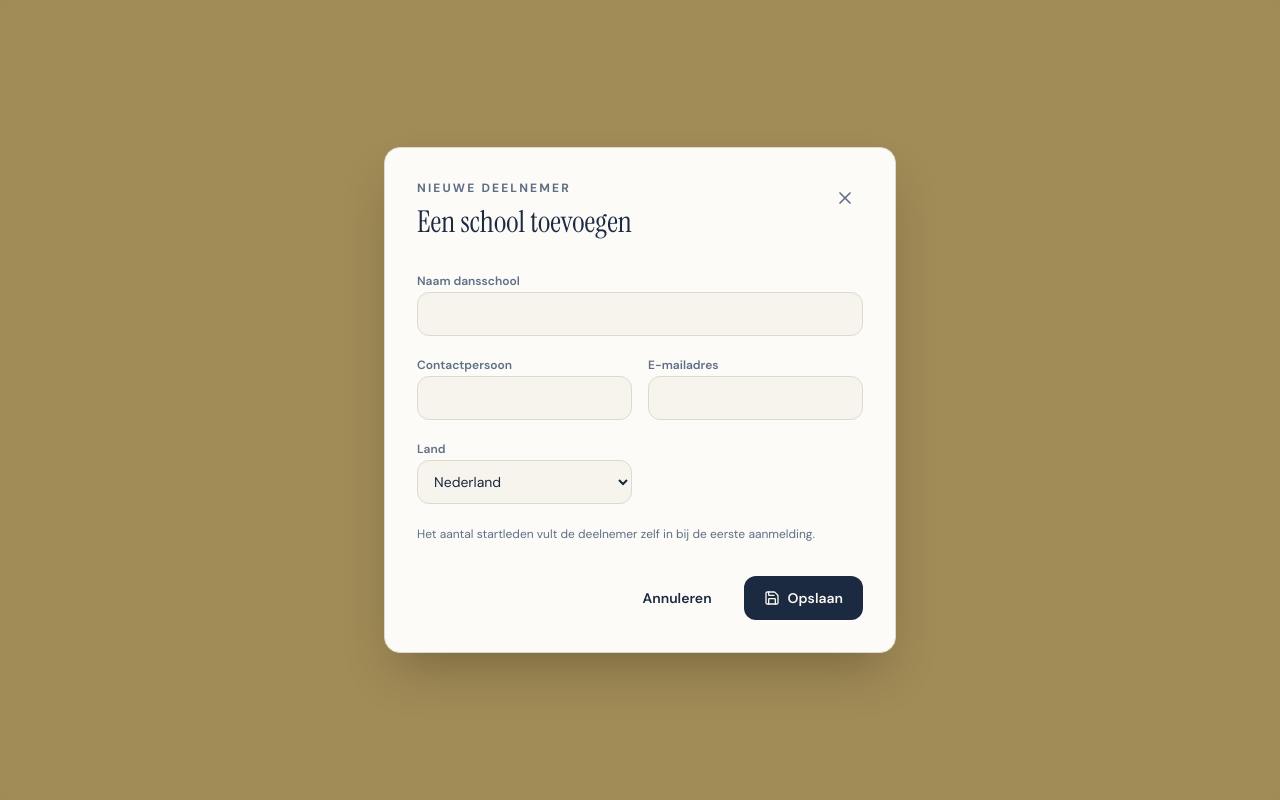
it: dubbele e-mailadressen in deelnemersbeheer › laat bij toevoegen de conflictmelding en alle ingevoerde waarden staan
Type "Nieuwe dansschool" into the field with test id "input-participant-school-name" at point(640, 314), box [417,292,863,336]
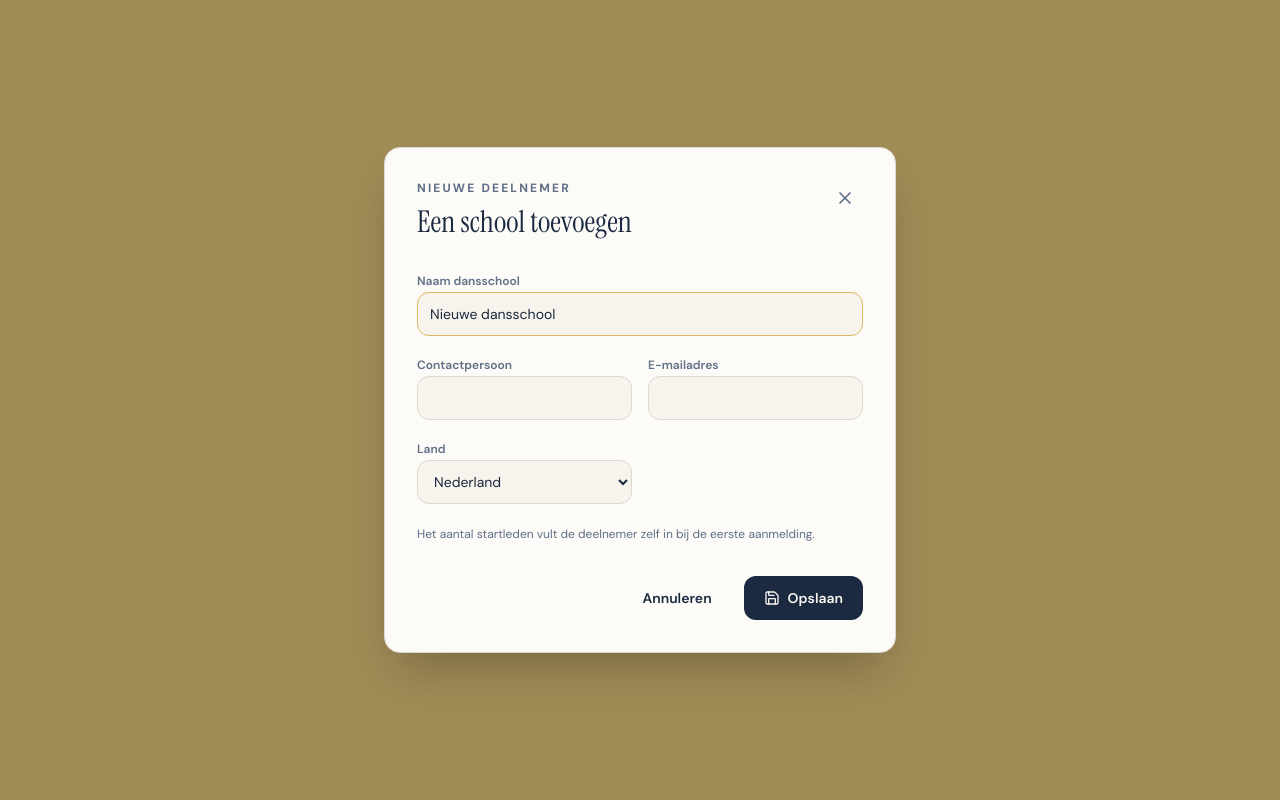
Type "Nieuwe beheerder" into the field with test id "input-participant-contact-name" at point(524, 398), box [417,376,632,420]
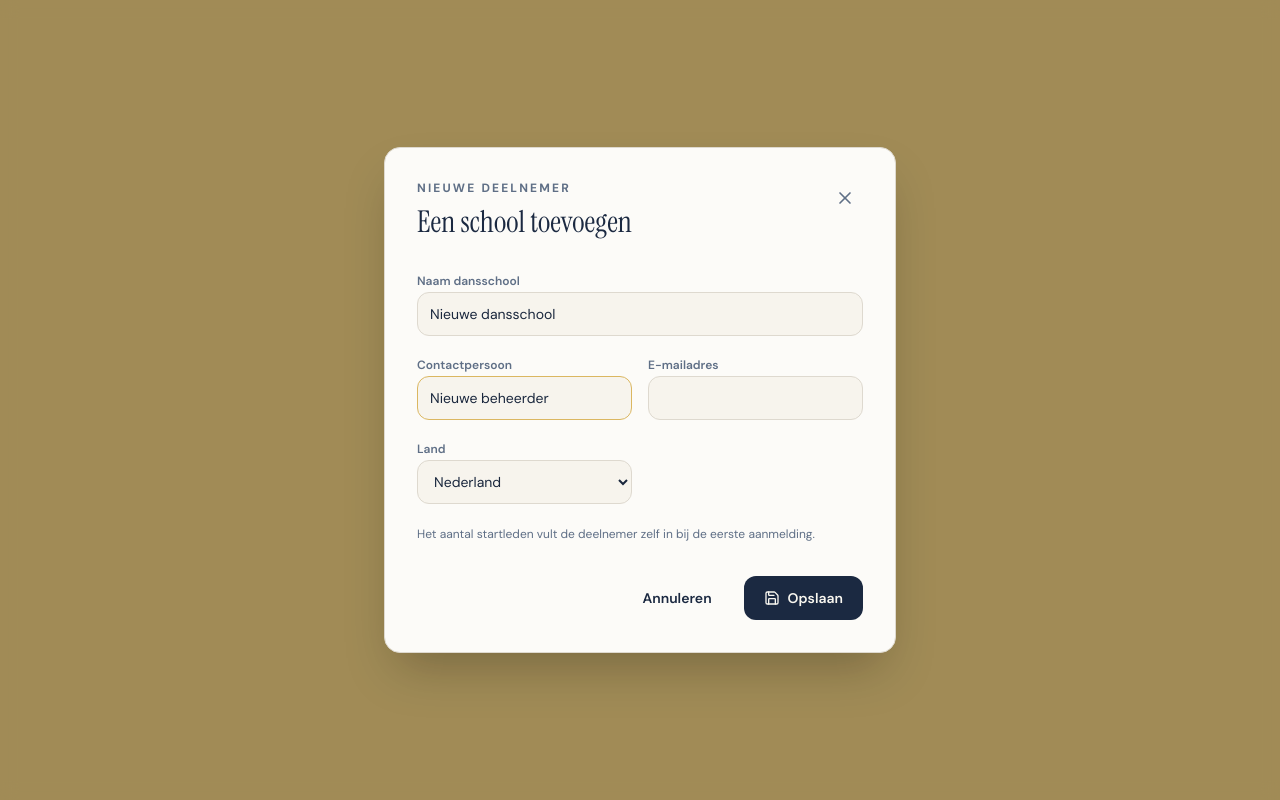
Type "BESTAAND@EXAMPLE.TEST" into the field with test id "input-participant-email" at point(756, 398), box [648,376,863,420]
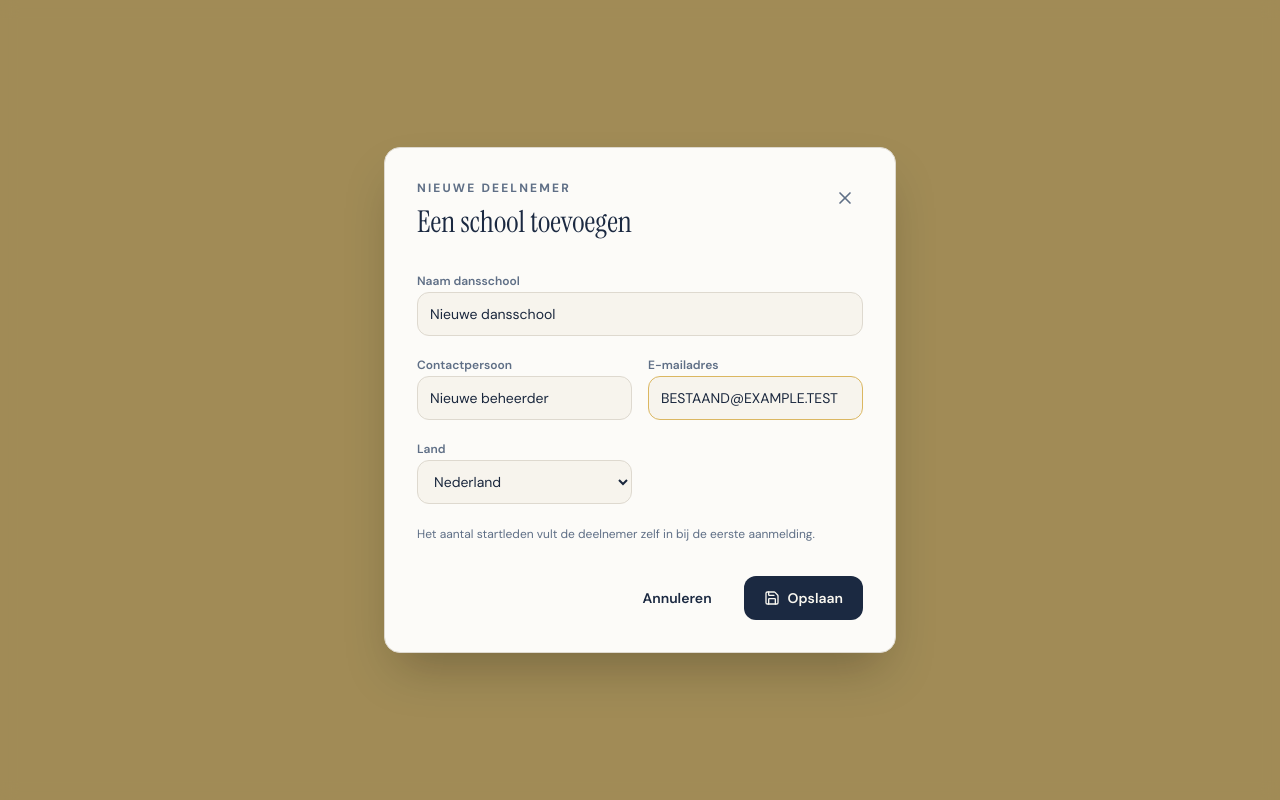
Click the button with test id "button-save-participant" at point(803, 598), box [744,576,863,620]
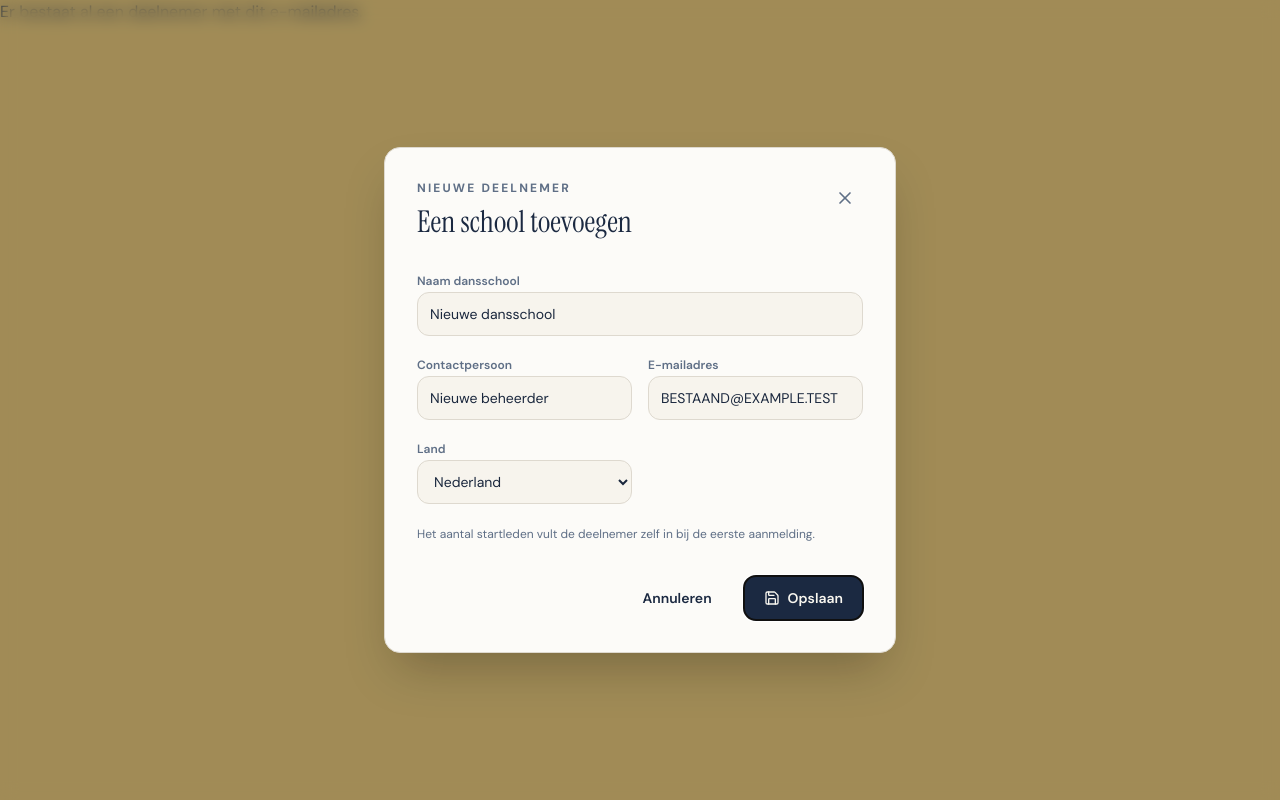
Expected: the message reads "Er bestaat al een deelnemer met dit e-mailadres.", [0,1,362,22]
